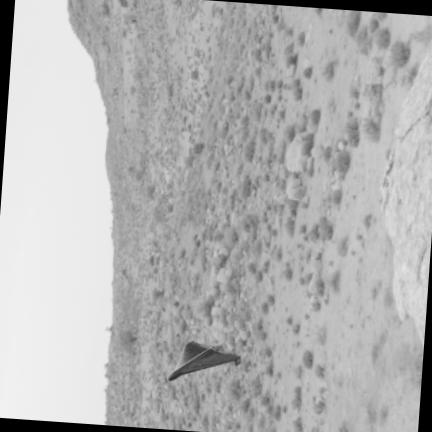Shahed: (167, 340, 240, 379)
